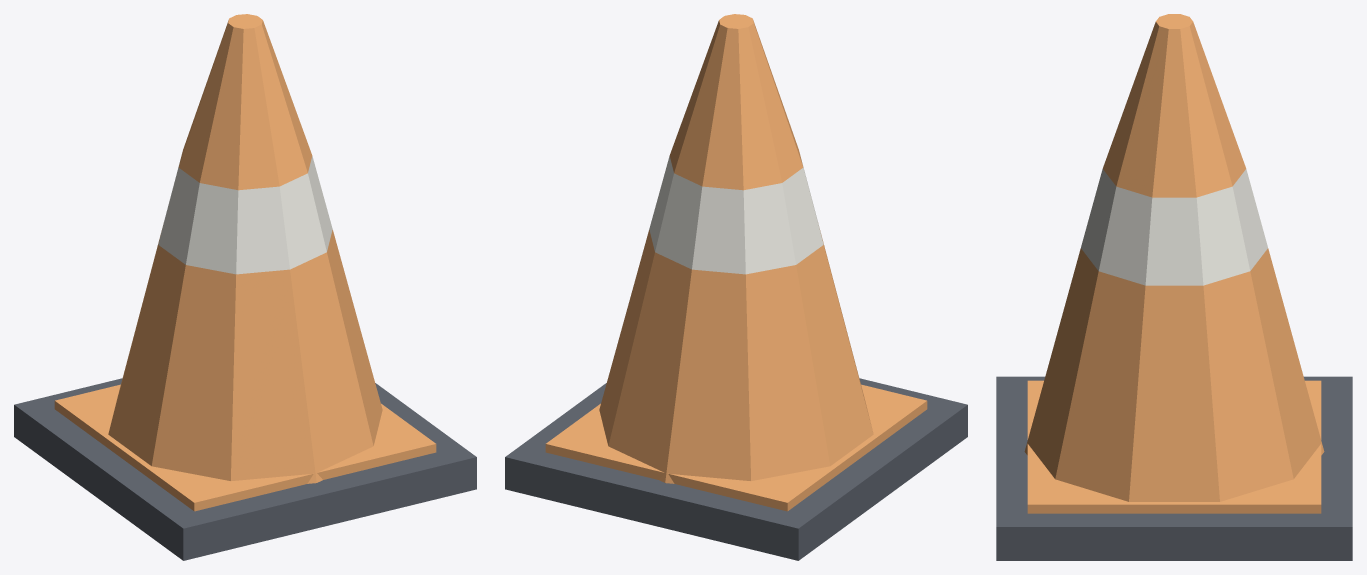
File: traffic_cone.glb
The picture shows the model from 3 angles, left to right: view 1: azimuth 30°, elevation 25°; view 2: azimuth 150°, elevation 25°; view 3: azimuth 270°, elevation 25°; orthographic projection. The views are drawn at different scales.
Visible parts, largest first — view 1: Cone_Lower, Rubber_Base, Cone_Top, Reflective_White_Band, Orange_Base_Inset; view 2: Cone_Lower, Rubber_Base, Cone_Top, Reflective_White_Band, Orange_Base_Inset; view 3: Cone_Lower, Rubber_Base, Cone_Top, Reflective_White_Band, Orange_Base_Inset.
Part boxes in pixels (bbox=[...]): Cone_Lower: bbox=[108, 230, 382, 483]; Rubber_Base: bbox=[14, 378, 476, 560]; Cone_Top: bbox=[178, 14, 312, 190]; Reflective_White_Band: bbox=[158, 156, 332, 274]; Orange_Base_Inset: bbox=[54, 384, 436, 511]; Cone_Lower: bbox=[599, 230, 873, 483]; Rubber_Base: bbox=[505, 378, 967, 560]; Cone_Top: bbox=[669, 14, 803, 190]; Reflective_White_Band: bbox=[649, 156, 823, 274]; Orange_Base_Inset: bbox=[545, 384, 927, 511]; Cone_Lower: bbox=[1024, 248, 1324, 501]; Rubber_Base: bbox=[996, 376, 1352, 560]; Cone_Top: bbox=[1102, 14, 1246, 197]; Reflective_White_Band: bbox=[1081, 169, 1267, 285]; Orange_Base_Inset: bbox=[1027, 380, 1321, 513].
Bounding box in the file's own units: 0.57 × 0.82 × 0.57.
